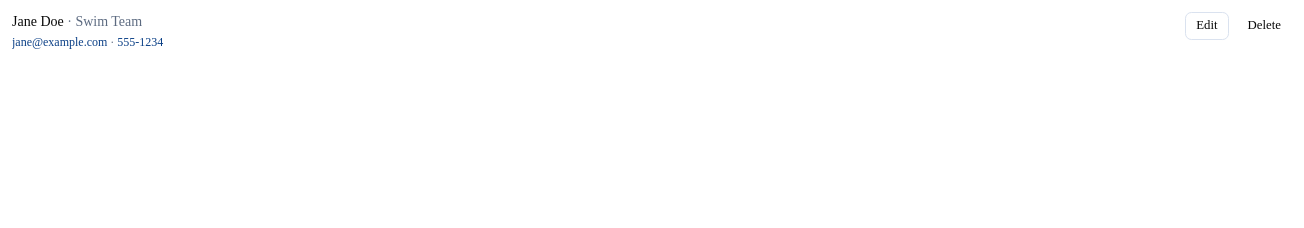
Scenario: ContactRow › shows an error message when the save fails
The image size is (1304, 228).
Click the button "Edit" at (1207, 26), box [1185,12,1229,40]
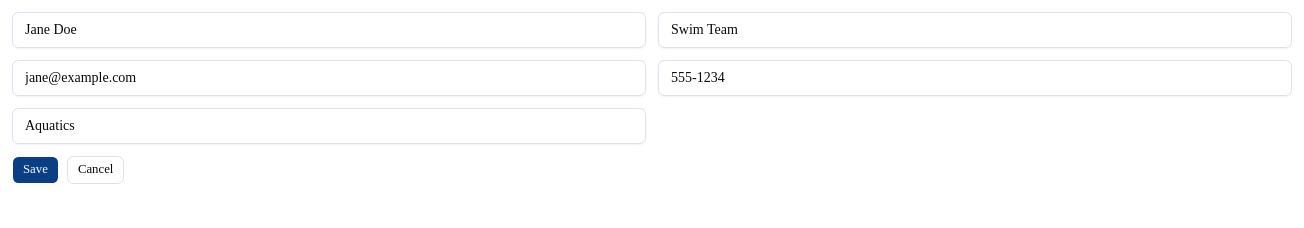
Click the button "Save" at (35, 170), box [12,156,59,184]
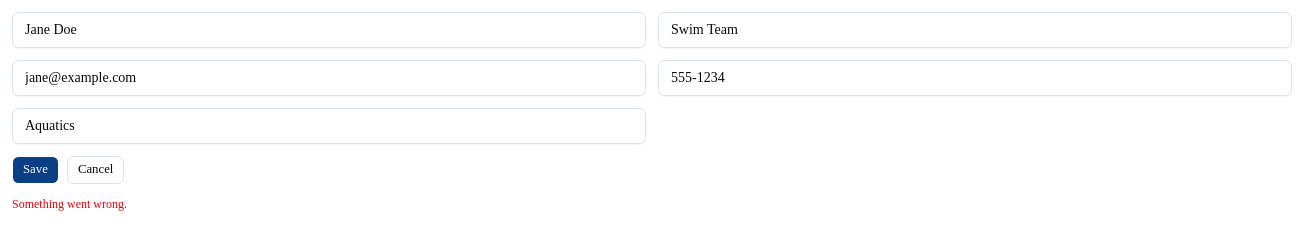
Result: the text "Something went wrong." is shown at [12,197,127,211]
